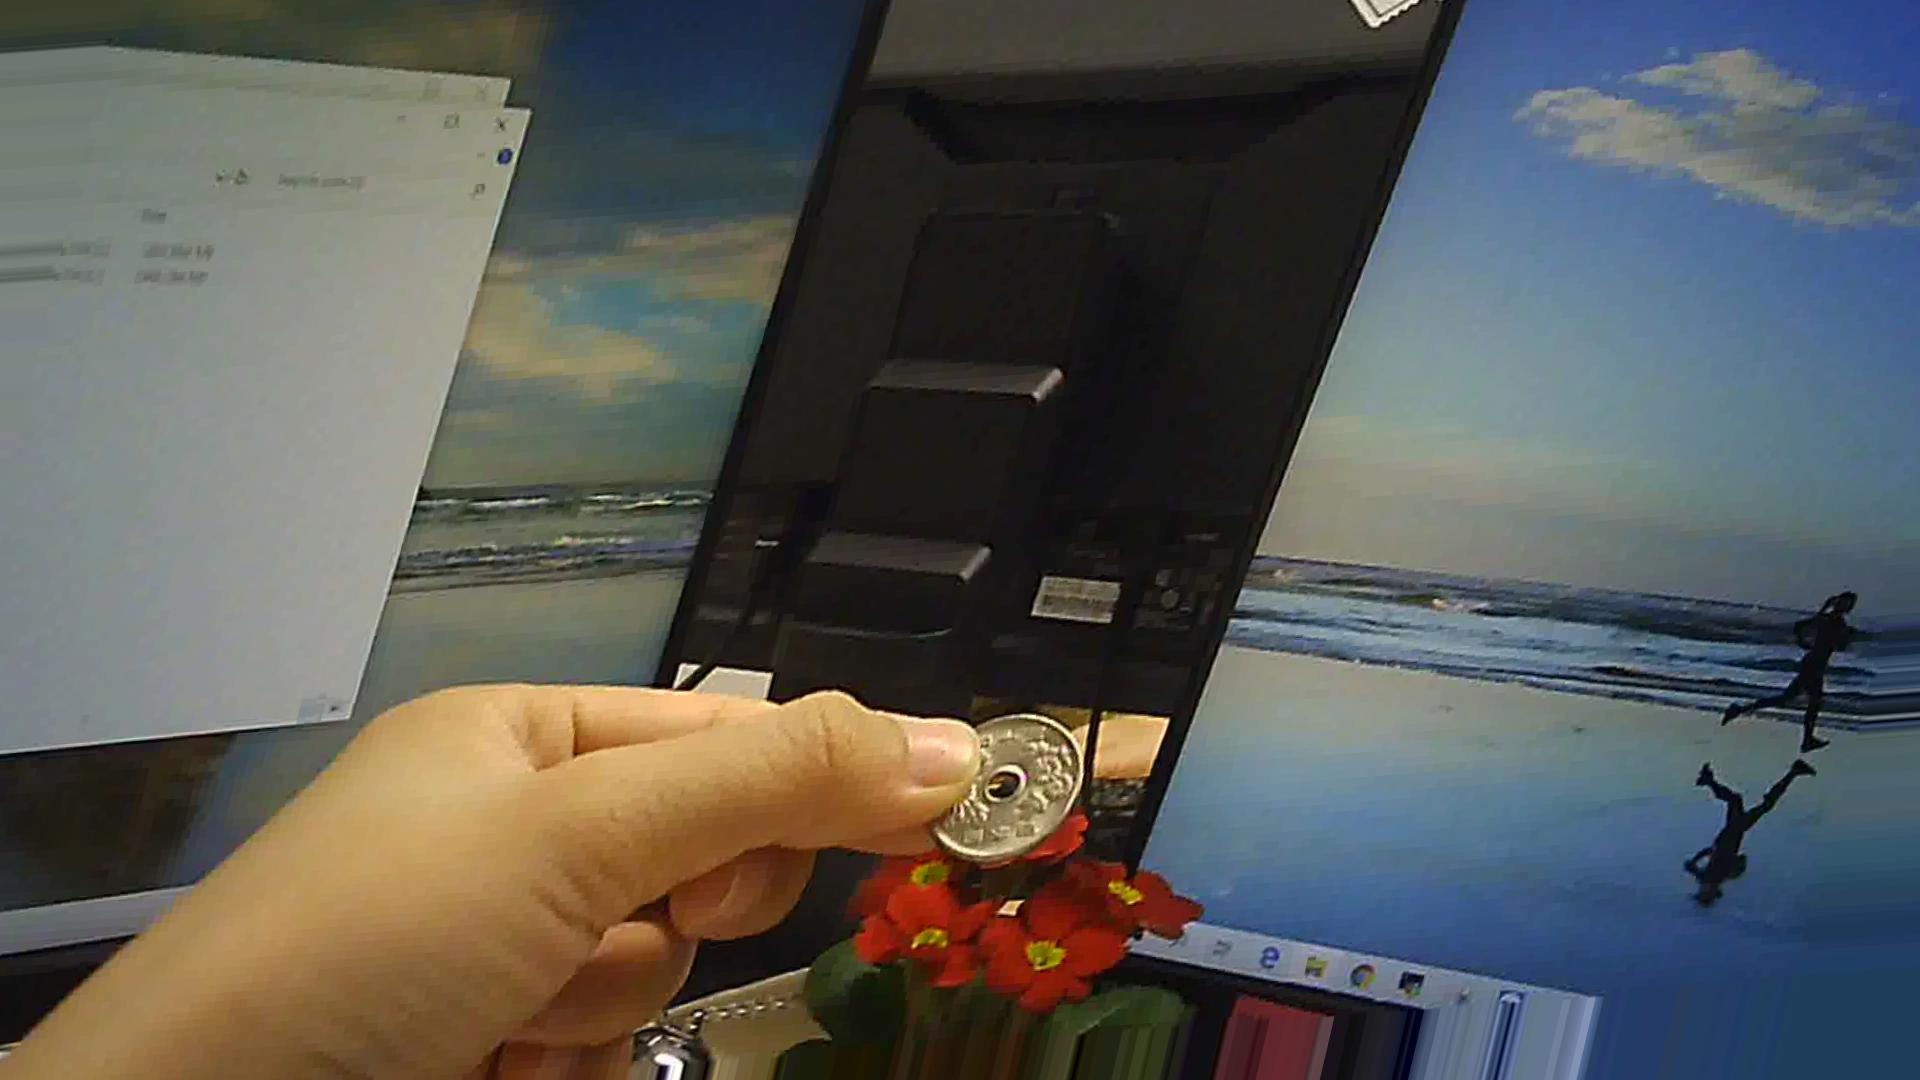50 Yen: (919, 711, 1091, 860)
